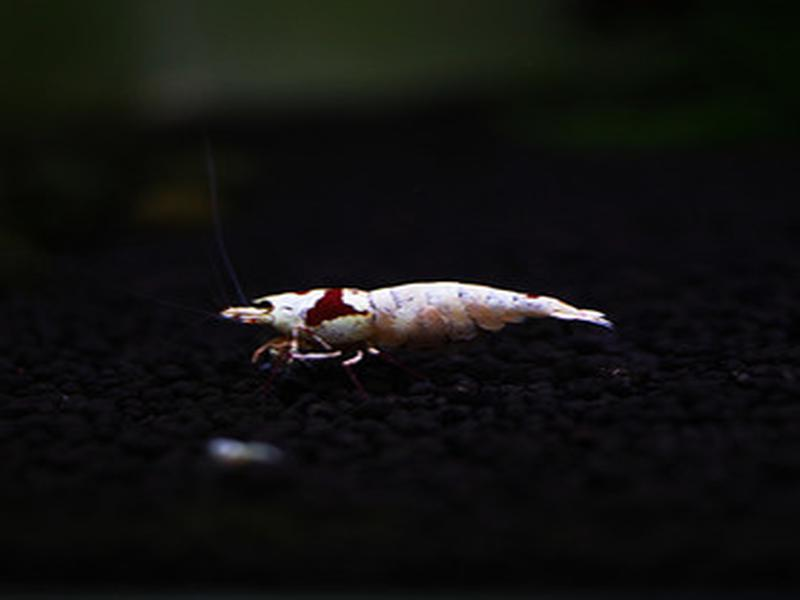shrimp: (221, 282, 612, 364)
